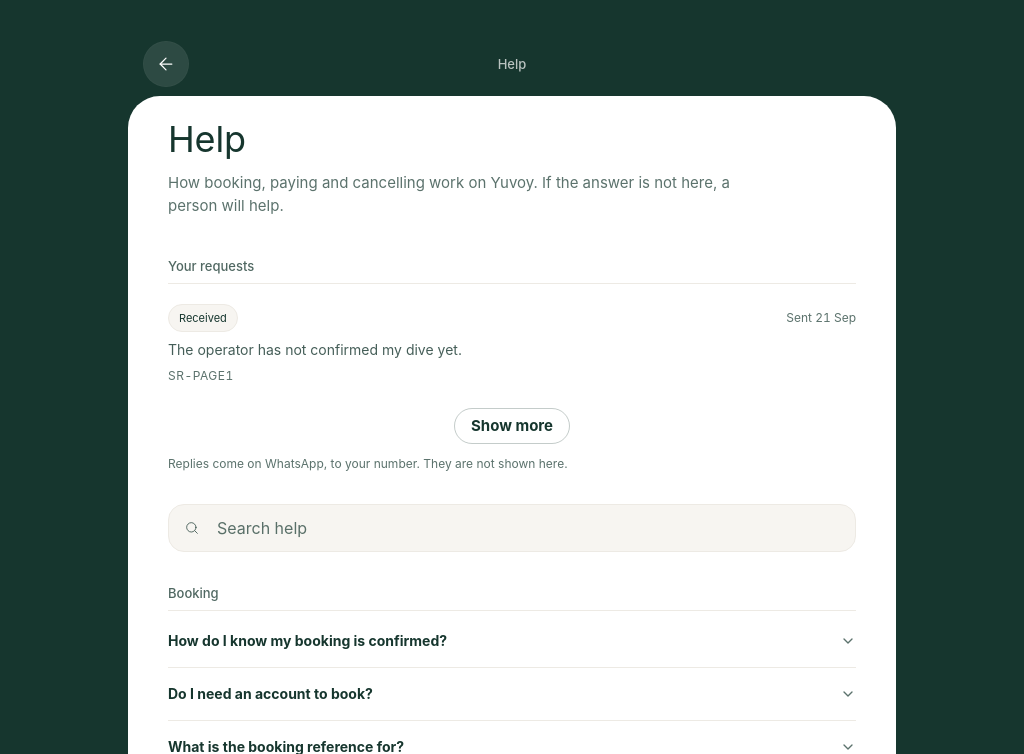
your requests › pages with the server's own cursor
Expected: the text "SR-PAGE1" is shown, x1=168 y1=368 x2=234 y2=383
Click the button "Show more".
click(512, 426)  # box x1=454 y1=408 x2=570 y2=444
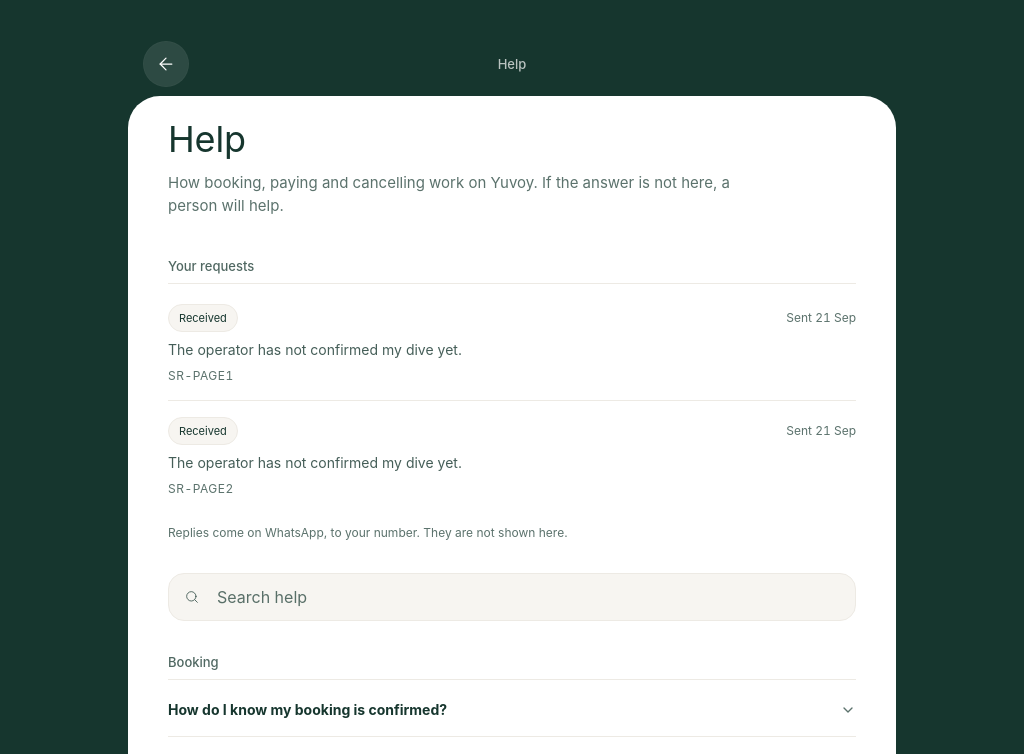
Now the text "SR-PAGE2" is shown, box x1=168 y1=481 x2=234 y2=496
